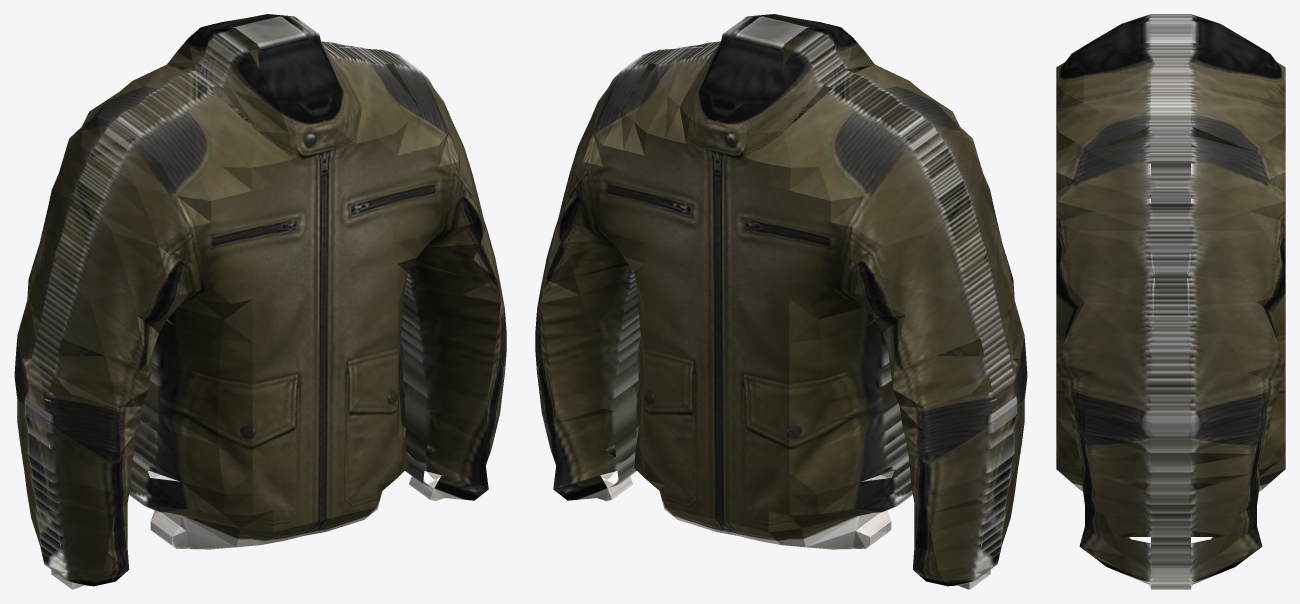
The model's file is randg-nomad-touring-jacket-021.glb.
3 renders of one model, left to right at view 1: azimuth 30°, elevation 25°; view 2: azimuth 150°, elevation 25°; view 3: azimuth 270°, elevation 25°, orthographic. The views are drawn at different scales.
Parts seen in each view (by area): view 1: world; view 2: world; view 3: world.
Boxes of the visible parts, bbox=[...] form: world: bbox=[14, 14, 506, 589]; world: bbox=[535, 14, 1027, 589]; world: bbox=[1056, 14, 1285, 589].
Bounding box in the file's own units: 0.931 × 1 × 0.44.
Materials: 1 (1 with a texture image).
